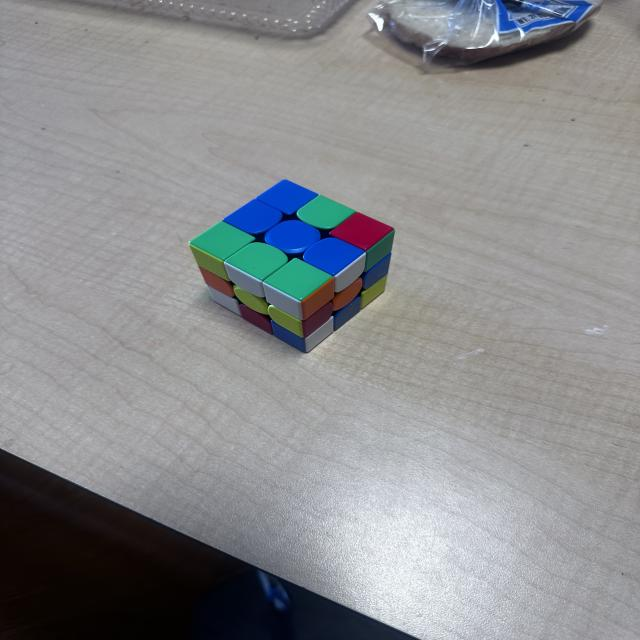sticker: (262, 257, 336, 322), (188, 221, 256, 281), (301, 236, 367, 294), (224, 242, 289, 299), (270, 313, 336, 353), (330, 211, 394, 252), (269, 300, 332, 340), (255, 178, 319, 217), (223, 198, 284, 237), (262, 218, 321, 258), (295, 194, 355, 232), (362, 225, 396, 275), (300, 279, 336, 322), (361, 251, 392, 293), (267, 303, 304, 338), (198, 265, 236, 299), (207, 282, 242, 317), (234, 285, 271, 318), (302, 302, 335, 339), (239, 303, 273, 336), (330, 278, 362, 313), (333, 294, 362, 332), (361, 272, 388, 308)
